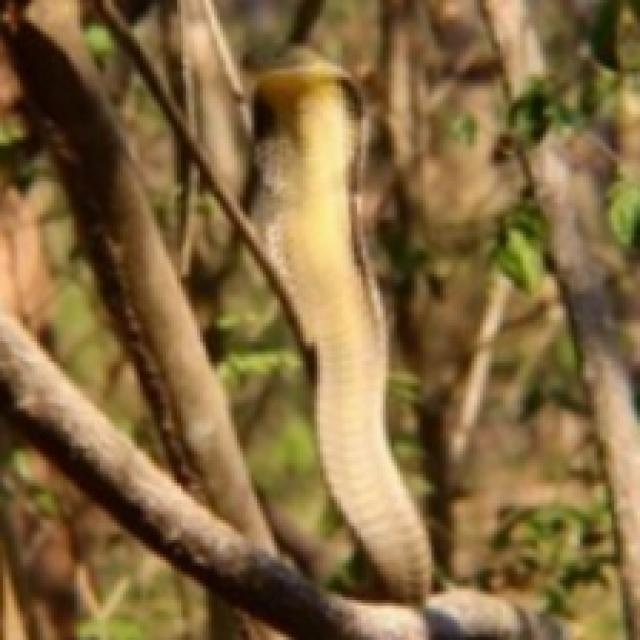king cobra: (251, 49, 429, 597)
